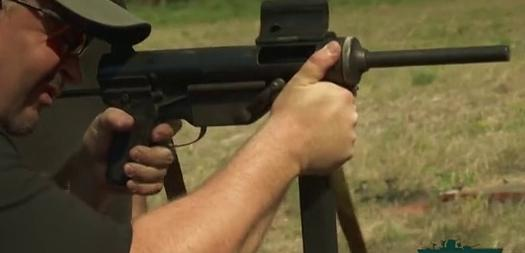gun: (1, 0, 525, 253)
